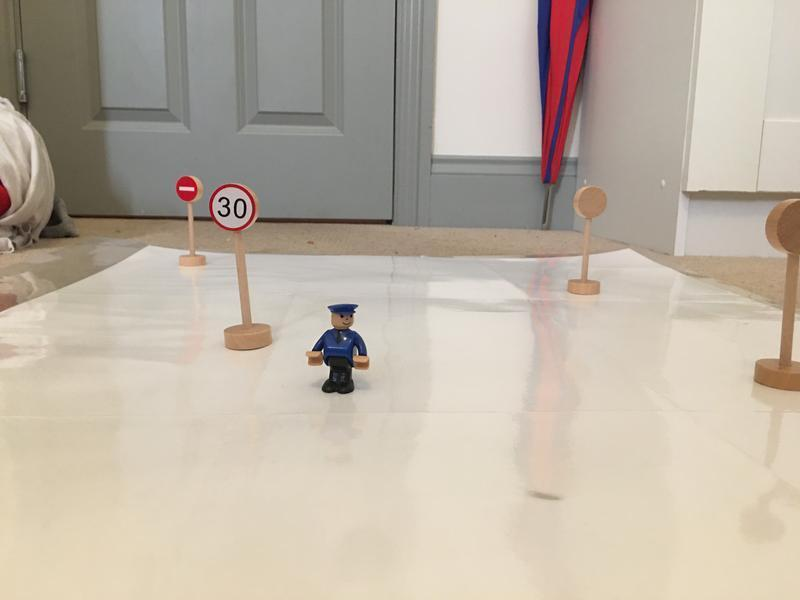Traffic_Sign_30: (209, 184, 258, 230)
Traffic_Sign_No_Entry: (175, 176, 199, 201)
person: (306, 303, 374, 397)
